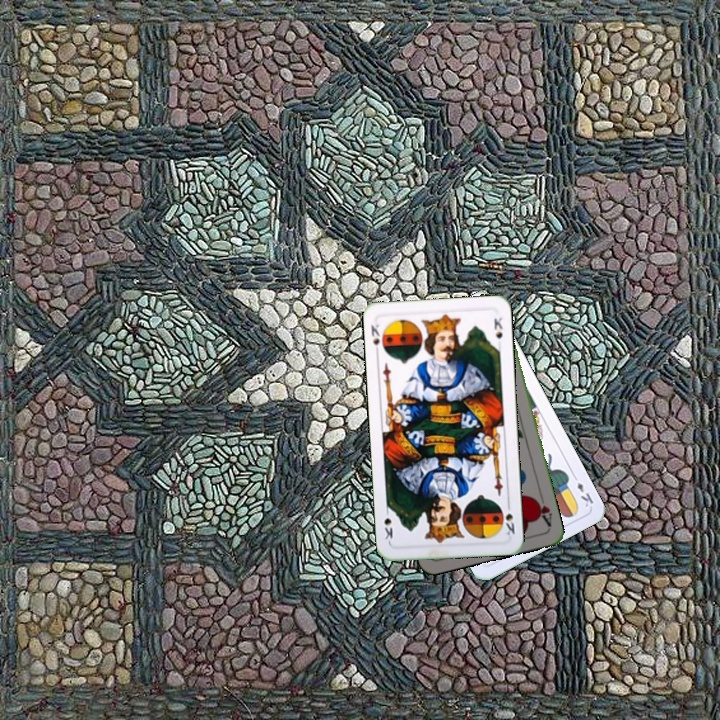EK: (569, 471, 596, 510)
HA: (531, 490, 555, 530)
SK: (501, 498, 517, 537), (367, 320, 382, 357)
